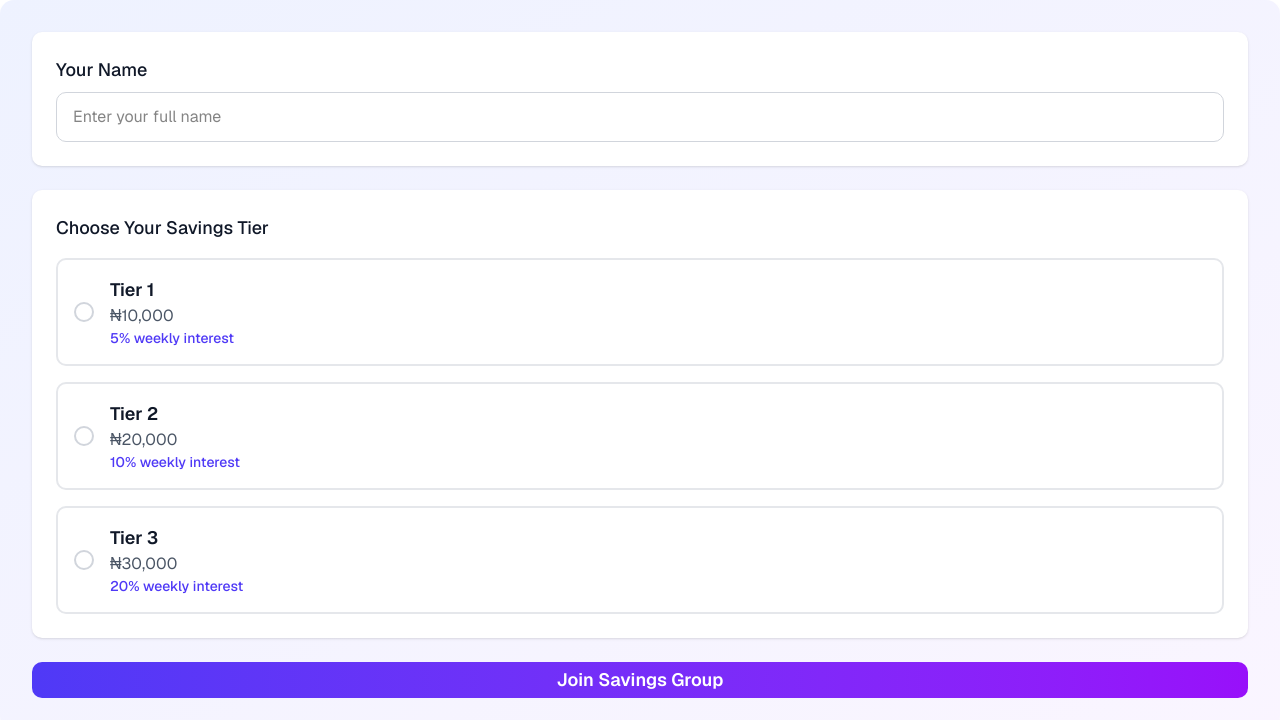
it: RegistrationForm › validates tier selection
Type "John Doe" into the field with placeholder "Enter your full name".
click(640, 117); type("John Doe")  # box [56,92,1224,142]
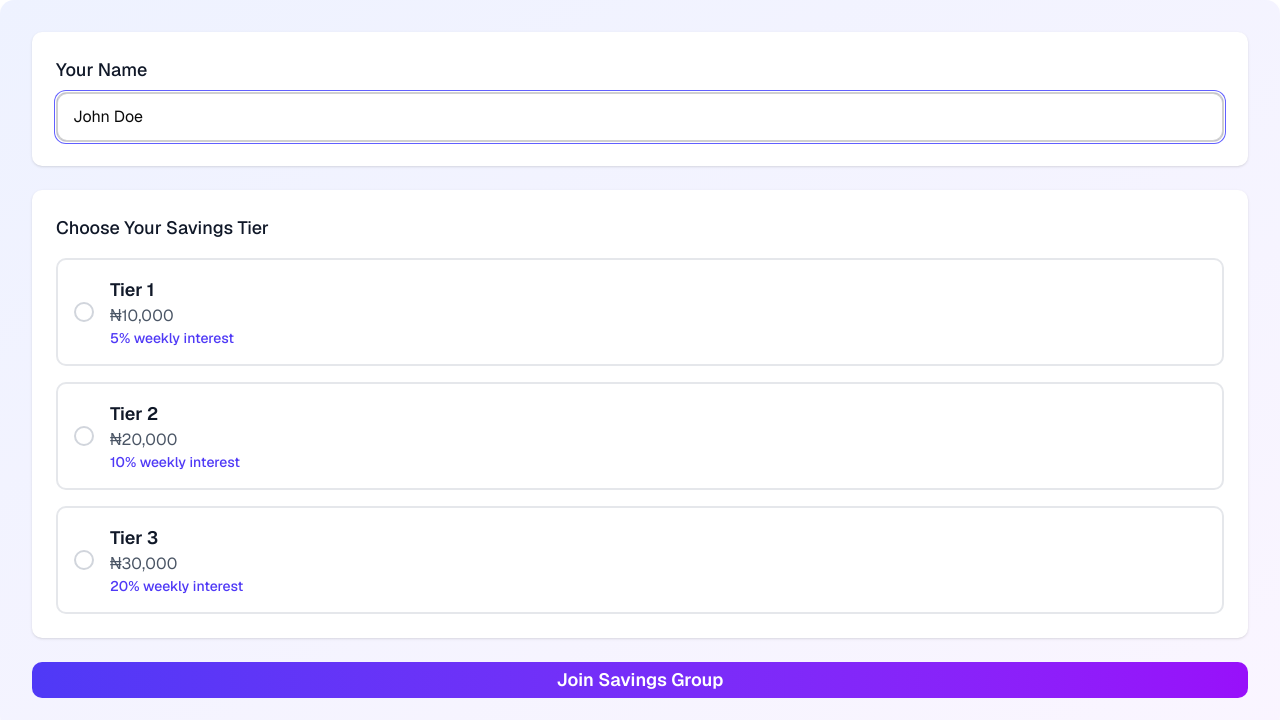
Click the button "Join Savings Group".
click(640, 680)  # box [32,662,1248,698]
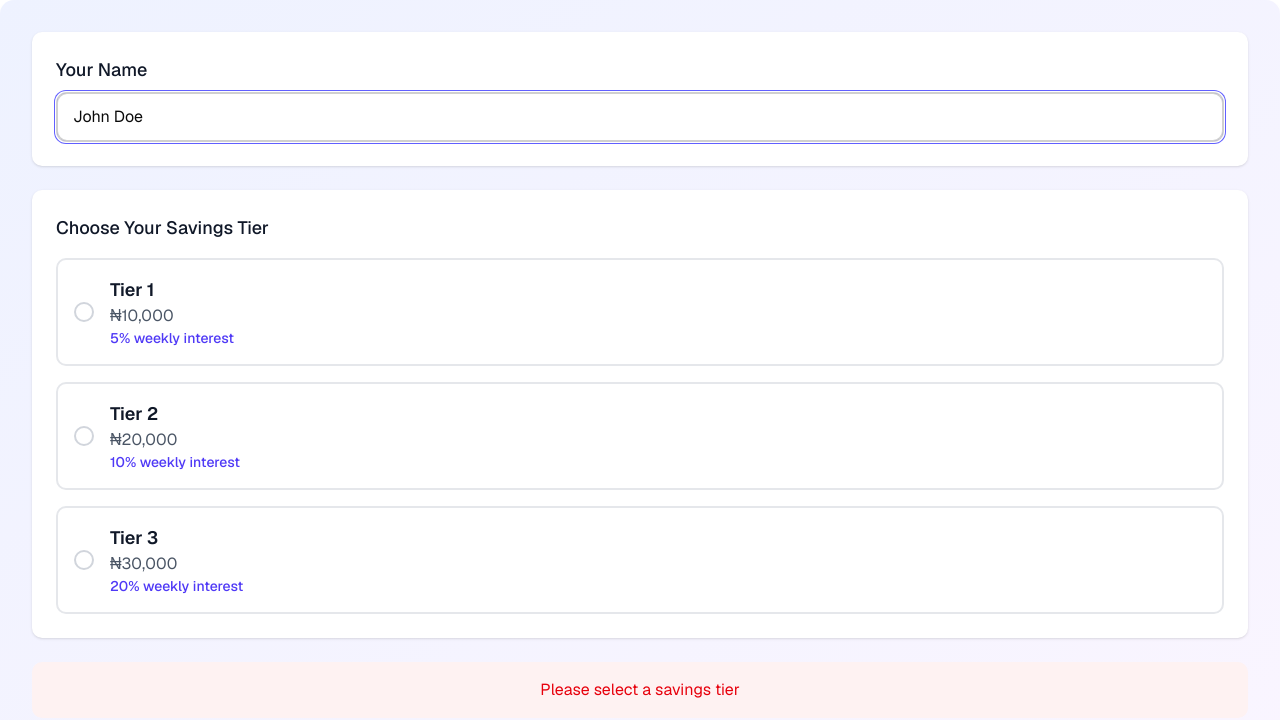
expect the text "Please select a savings tier" is shown: met, box [32,662,1248,718]
